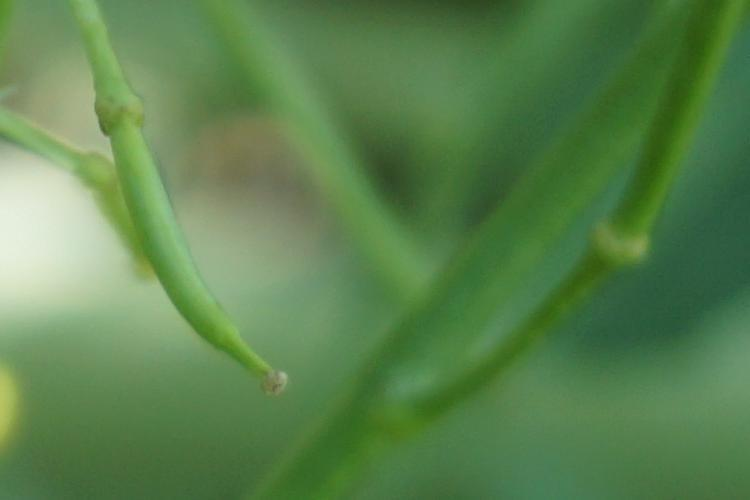pod: (73, 59, 307, 413)
